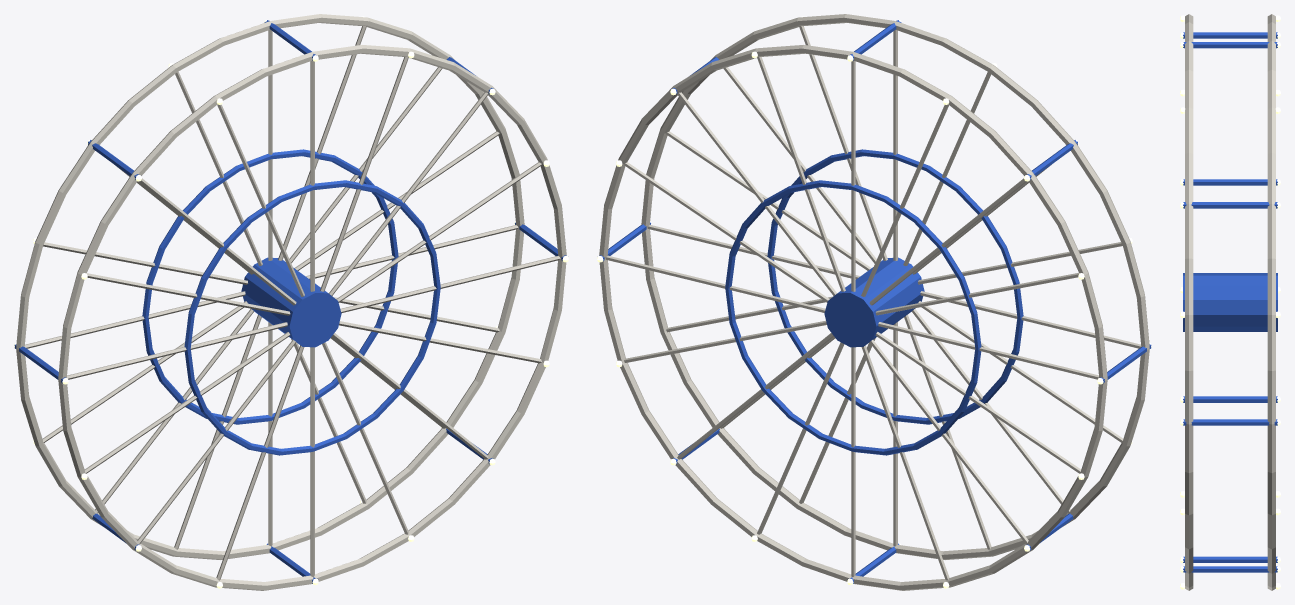
Rendered from ferris_wheel.glb.
The picture shows the model from 3 angles, left to right: view 1: azimuth 30°, elevation 25°; view 2: azimuth 150°, elevation 25°; view 3: azimuth 270°, elevation 25°; orthographic projection.
Parts seen in each view (by area): view 1: spokes_fair_white, rim_fair_white, rim_ferris_blue, hub_ferris_blue, hooks_ferris_blue, bulbs_fair_bulb; view 2: spokes_fair_white, rim_fair_white, rim_ferris_blue, hub_ferris_blue, hooks_ferris_blue, bulbs_fair_bulb; view 3: rim_fair_white, hub_ferris_blue, hooks_ferris_blue, bulbs_fair_bulb.
Boxes of the visible parts, x1=… form: spokes_fair_white: x1=24, y1=26, x2=560, y2=580; rim_fair_white: x1=16, y1=14, x2=566, y2=590; rim_ferris_blue: x1=142, y1=149, x2=440, y2=455; hub_ferris_blue: x1=241, y1=257, x2=341, y2=347; hooks_ferris_blue: x1=14, y1=20, x2=566, y2=583; bulbs_fair_bulb: x1=14, y1=16, x2=568, y2=588; spokes_fair_white: x1=605, y1=26, x2=1141, y2=580; rim_fair_white: x1=599, y1=14, x2=1149, y2=590; rim_ferris_blue: x1=725, y1=149, x2=1023, y2=455; hub_ferris_blue: x1=824, y1=257, x2=924, y2=347; hooks_ferris_blue: x1=599, y1=20, x2=1151, y2=583; bulbs_fair_bulb: x1=597, y1=16, x2=1151, y2=588; rim_fair_white: x1=1185, y1=14, x2=1275, y2=590; hub_ferris_blue: x1=1183, y1=273, x2=1277, y2=331; hooks_ferris_blue: x1=1183, y1=32, x2=1277, y2=572; bulbs_fair_bulb: x1=1180, y1=15, x2=1280, y2=589.
Bounding box in the file's own units: 9.76 × 9.76 × 1.7.
